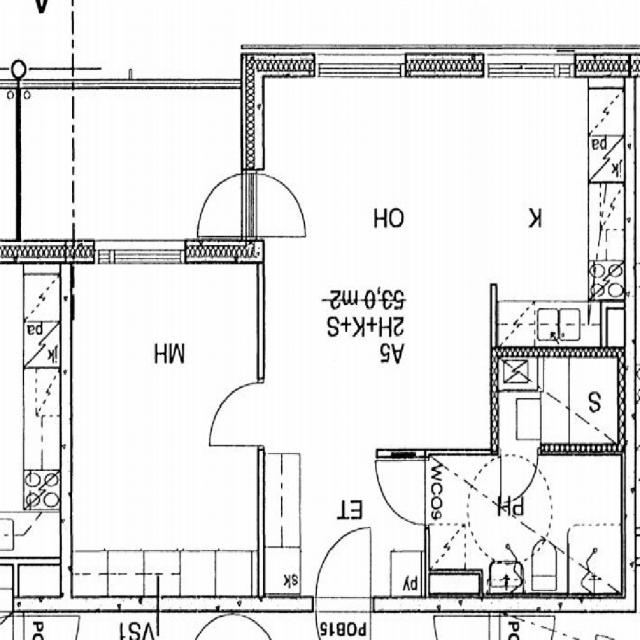door: (316, 527, 370, 612), (193, 174, 257, 235), (241, 174, 305, 235), (209, 383, 263, 444), (376, 462, 430, 523), (500, 442, 536, 500)
